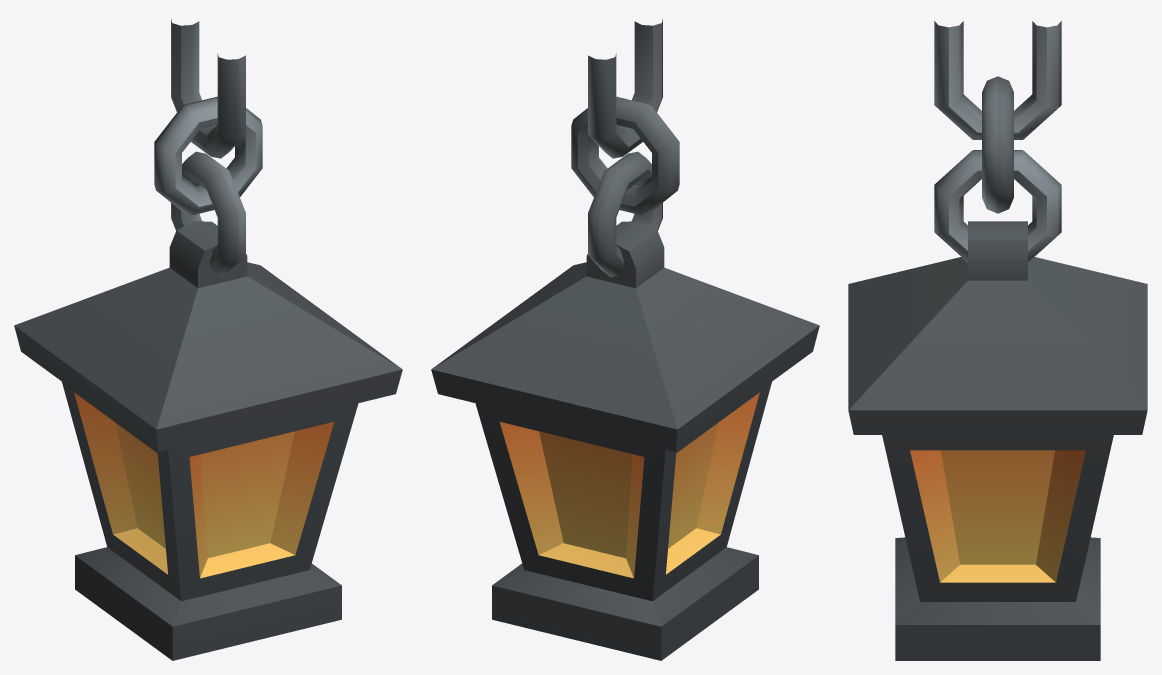
Rendered from d_kaykit_lanterne_pendue.glb.
3 views of the same model, side by side, from view 1: azimuth 30°, elevation 25°; view 2: azimuth 150°, elevation 25°; view 3: azimuth 270°, elevation 25° (orthographic). The views are drawn at different scales.
Parts seen in each view (by area): view 1: d_kaykit_lanterne_pendue; view 2: d_kaykit_lanterne_pendue; view 3: d_kaykit_lanterne_pendue.
Boxes of the visible parts, x1,y1,x2,y2 form: d_kaykit_lanterne_pendue: [14, 19, 402, 660]; d_kaykit_lanterne_pendue: [431, 19, 819, 660]; d_kaykit_lanterne_pendue: [848, 21, 1147, 660].
Size of the model in its own units: 0.64 by 1.41 by 0.64.
Materials: 1 (1 with a texture image).
